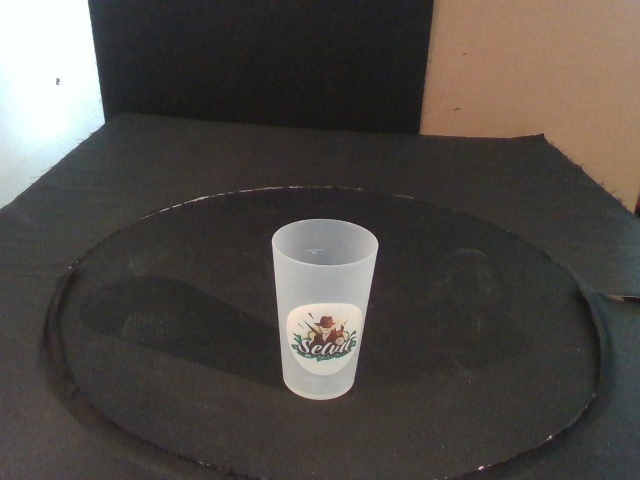glass: (271, 219, 379, 401)
